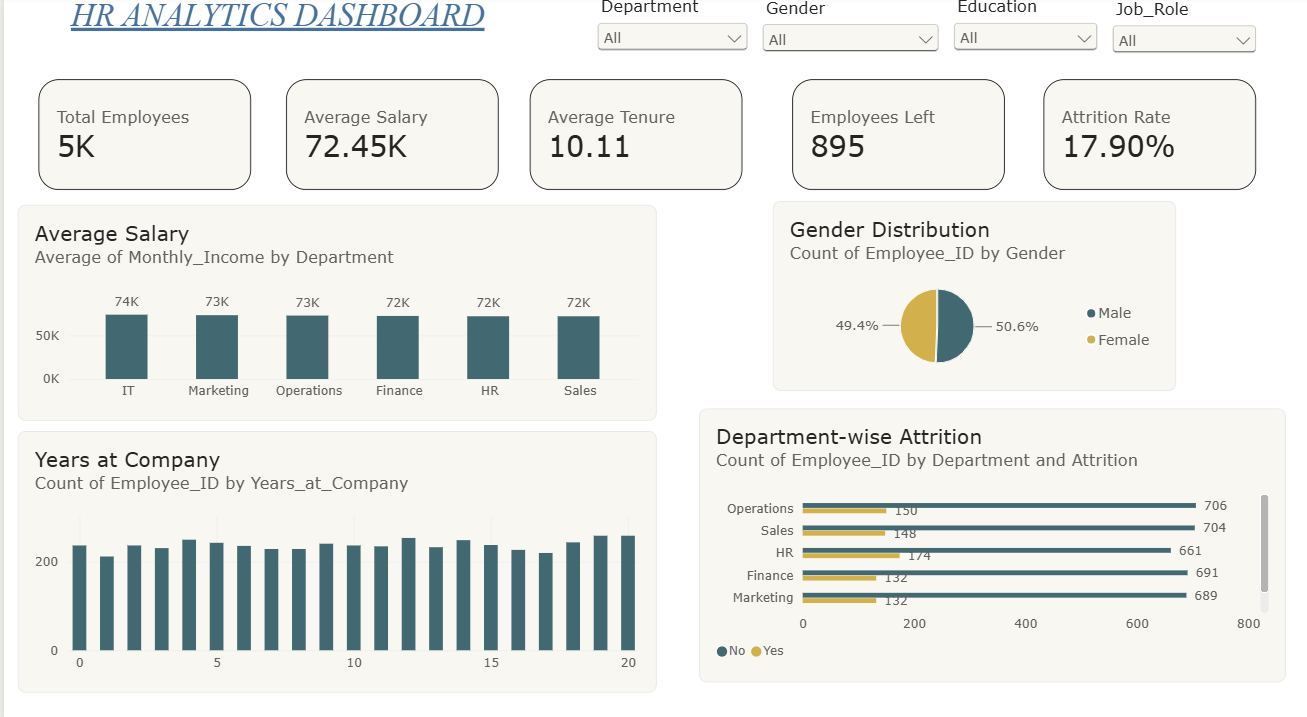

Layout of this report page (visuals, bound fields, positions):
{"tool":"powerbi","page":{"name":"HR Overview","canvas":[1280,720],"ordinal":0},"visuals":[{"type":"cardVisual","fields":{"Data":["hr_employees.Total_Employees"]},"box":[28.2,76.1,220,120],"z":0},{"type":"cardVisual","fields":{"Data":["hr_employees.Average_Salary"]},"box":[271.2,75.8,220,120],"z":1000},{"type":"cardVisual","fields":{"Data":["hr_employees.Average_Tenure"]},"box":[510.3,75.8,220,120],"z":2000},{"type":"cardVisual","fields":{"Data":["hr_employees.Employees_Left"]},"box":[768.1,76.1,220,120],"z":3000},{"type":"clusteredBarChart","title":"Department-wise Attrition","fields":{"Category":["hr_employees.Department"],"Series":["hr_employees.Attrition"],"Y":["CountNonNull(hr_employees.Employee_ID)"]},"box":[682.2,404.9,576.3,269],"z":4000},{"type":"columnChart","title":"Average Salary","fields":{"Category":["hr_employees.Department"],"Y":["Avg(hr_employees.Monthly_Income)"]},"box":[13.5,204.9,627,212.3],"z":5000},{"type":"pieChart","title":"Gender Distribution","fields":{"Category":["hr_employees.Gender"],"Y":["CountNonNull(hr_employees.Employee_ID)"]},"box":[754.6,201.2,396.3,186.5],"z":6000},{"type":"clusteredColumnChart","title":"Years at Company","fields":{"Category":["hr_employees.Years_at_Company"],"Y":["CountNonNull(hr_employees.Employee_ID)"]},"box":[13.5,427,627,256.4],"z":7000},{"type":"textbox","box":[0,0,537.4,65],"z":8000},{"type":"cardVisual","fields":{"Data":["hr_employees.Attrition Rate"]},"box":[1014.7,76.1,220,120],"z":9000},{"type":"slicer","fields":{"Values":["hr_employees.Department"]},"box":[577.9,0,157.1,69.9],"z":10000},{"type":"slicer","fields":{"Values":["hr_employees.Gender"]},"box":[739.9,1.2,182.8,65],"z":11000},{"type":"slicer","fields":{"Values":["hr_employees.Education"]},"box":[927.6,0,150.9,73.6],"z":12000},{"type":"slicer","fields":{"Values":["hr_employees.Job_Role"]},"box":[1083.4,2.5,150.9,71.2],"z":13000}]}

Visuals, with their boxes in screenshot pixels (x1, y1, x2, y2), scaled from the page's 1280x720 canvas onto the 1307x717 screenshot:
cardVisual - hr_employees.Total_Employees: bbox(29, 76, 253, 195)
cardVisual - hr_employees.Average_Salary: bbox(277, 75, 502, 195)
cardVisual - hr_employees.Average_Tenure: bbox(521, 75, 746, 195)
cardVisual - hr_employees.Employees_Left: bbox(784, 76, 1009, 195)
"Department-wise Attrition" clusteredBarChart: bbox(697, 403, 1285, 671)
"Average Salary" columnChart: bbox(14, 204, 654, 415)
"Gender Distribution" pieChart: bbox(771, 200, 1175, 386)
"Years at Company" clusteredColumnChart: bbox(14, 425, 654, 681)
textbox: bbox(0, 0, 549, 65)
cardVisual - hr_employees.Attrition Rate: bbox(1036, 76, 1261, 195)
slicer - hr_employees.Department: bbox(590, 0, 751, 70)
slicer - hr_employees.Gender: bbox(756, 1, 942, 66)
slicer - hr_employees.Education: bbox(947, 0, 1101, 73)
slicer - hr_employees.Job_Role: bbox(1106, 2, 1260, 73)
